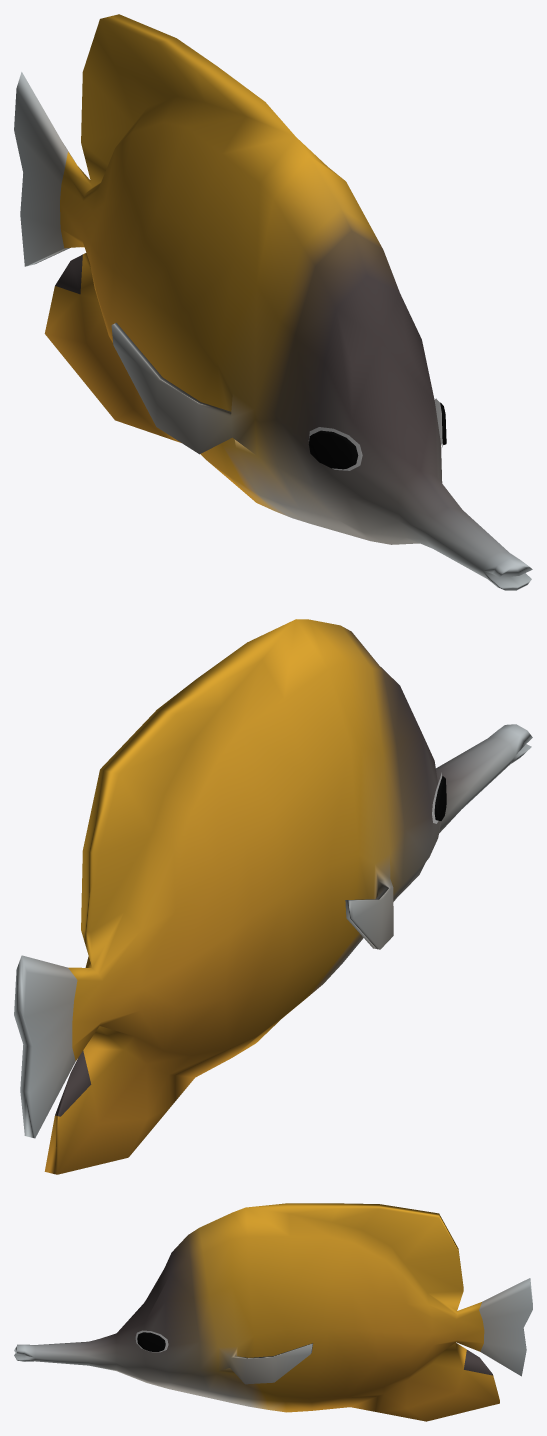
Rendered from underwater-fish-butterflyfish_v2.glb.
3 views of the same model, one above another, from view 1: azimuth 30°, elevation 25°; view 2: azimuth 150°, elevation 25°; view 3: azimuth 270°, elevation 25° (orthographic). The views are drawn at different scales.
Visible parts, largest first — view 1: Butterflyfish_v2; view 2: Butterflyfish_v2; view 3: Butterflyfish_v2.
Boxes of the visible parts, x1,y1,x2,y2 form: Butterflyfish_v2: (14, 14, 532, 590); Butterflyfish_v2: (14, 619, 532, 1174); Butterflyfish_v2: (14, 1203, 532, 1421).
Bounding box in the file's own units: 0.0558 × 0.0911 × 0.2.
